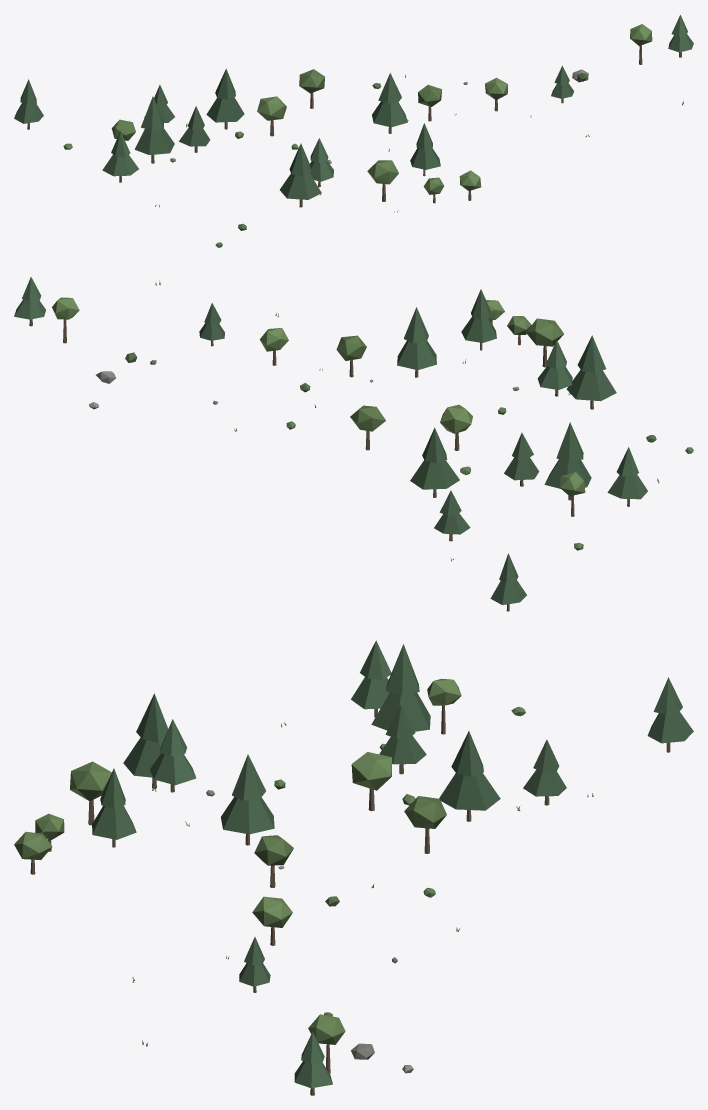
The model's file is arch_land_scatter_c17_21_lod1.glb.
3 views of the same model, one above another, from view 1: azimuth 30°, elevation 25°; view 2: azimuth 150°, elevation 25°; view 3: azimuth 270°, elevation 25° (orthographic). The views are drawn at different scales.
Parts seen in each view (by area): view 1: arch_land_scatter_c17_21_lod1; view 2: arch_land_scatter_c17_21_lod1; view 3: arch_land_scatter_c17_21_lod1.
Boxes of the visible parts, left/top/right/bottom form: arch_land_scatter_c17_21_lod1: left=14, top=15, right=693, bottom=247; arch_land_scatter_c17_21_lod1: left=14, top=277, right=693, bottom=611; arch_land_scatter_c17_21_lod1: left=14, top=640, right=693, bottom=1095.
Bounding box in the file's own units: 127 × 22.8 × 88.75.
